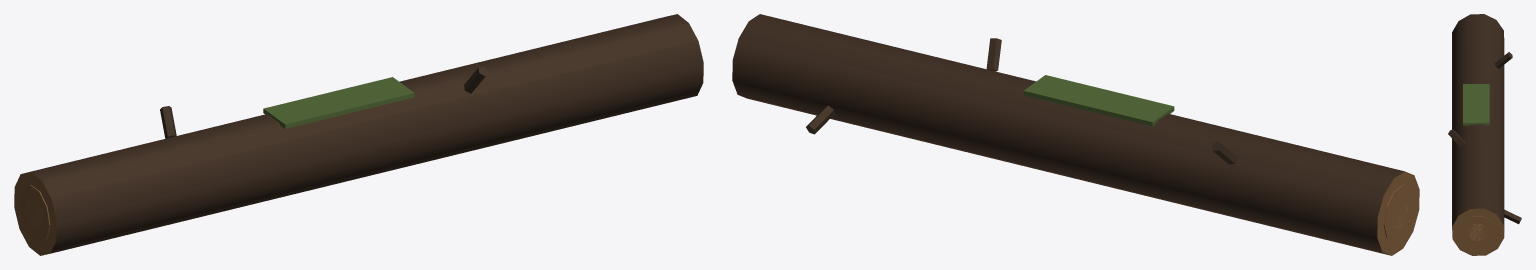
Rendered from log_step.glb.
3 views of the same model, side by side, from view 1: azimuth 30°, elevation 25°; view 2: azimuth 150°, elevation 25°; view 3: azimuth 270°, elevation 25° (orthographic). The views are drawn at different scales.
Parts seen in each view (by area): view 1: log_step; view 2: log_step; view 3: log_step.
Boxes of the visible parts, x1,y1,x2,y2 form: log_step: (14, 14, 703, 255); log_step: (732, 14, 1419, 255); log_step: (1448, 14, 1521, 255).
Bounding box in the file's own units: 6.02 × 0.8554 × 0.9645.
